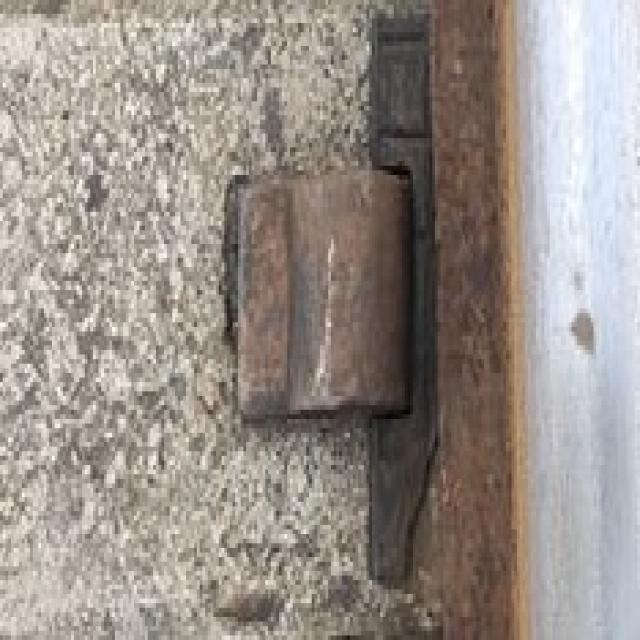track_bolt_missing: (281, 162, 417, 425)
